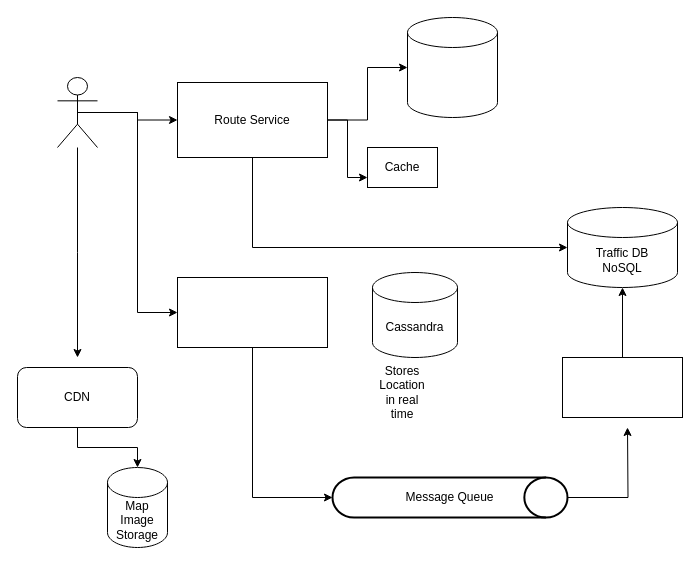
The diagram is 700 pixels wide and 565 high, and some of its shapes have lost their labels. The shapes that lost their labels are listed below. From the top down, each one's centre as x and y in pixels, then its label:
the point at 452,67: Graph DB Stores the indexes as graphs
the point at 77,112: Actor
the point at 252,312: Location Service
the point at 622,387: Traffic Service
